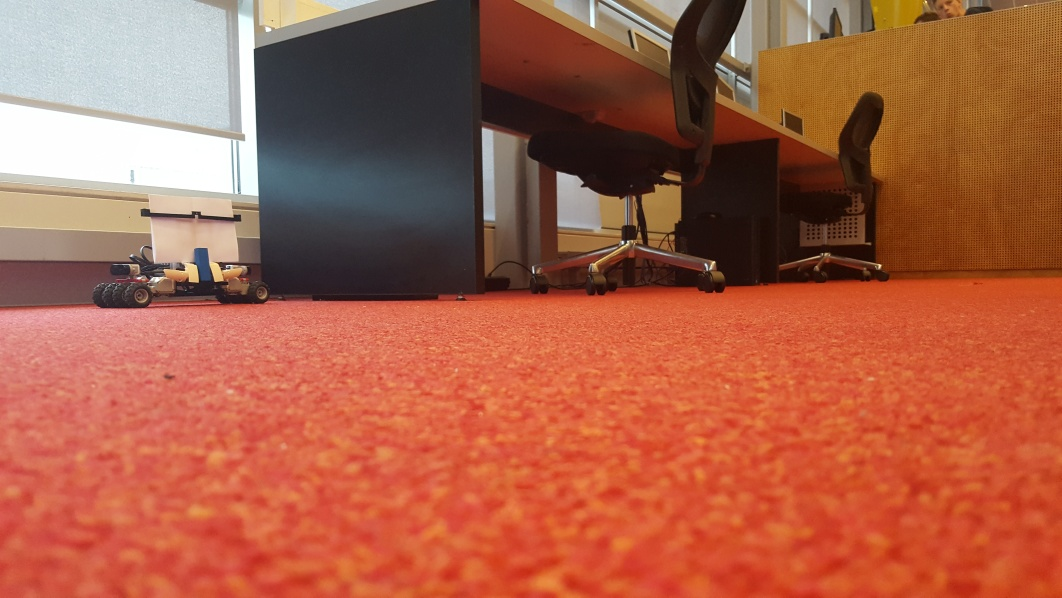car: (92, 194, 268, 309)
